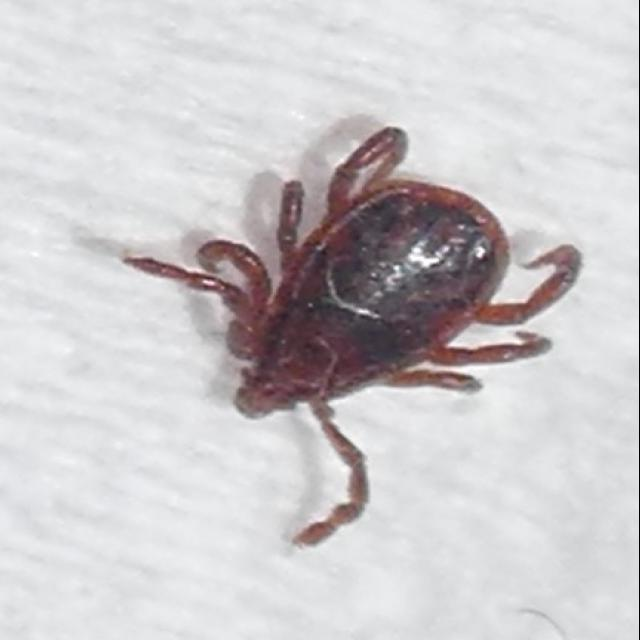Rhipicephalus Sanguineus-M: (123, 125, 582, 550)
